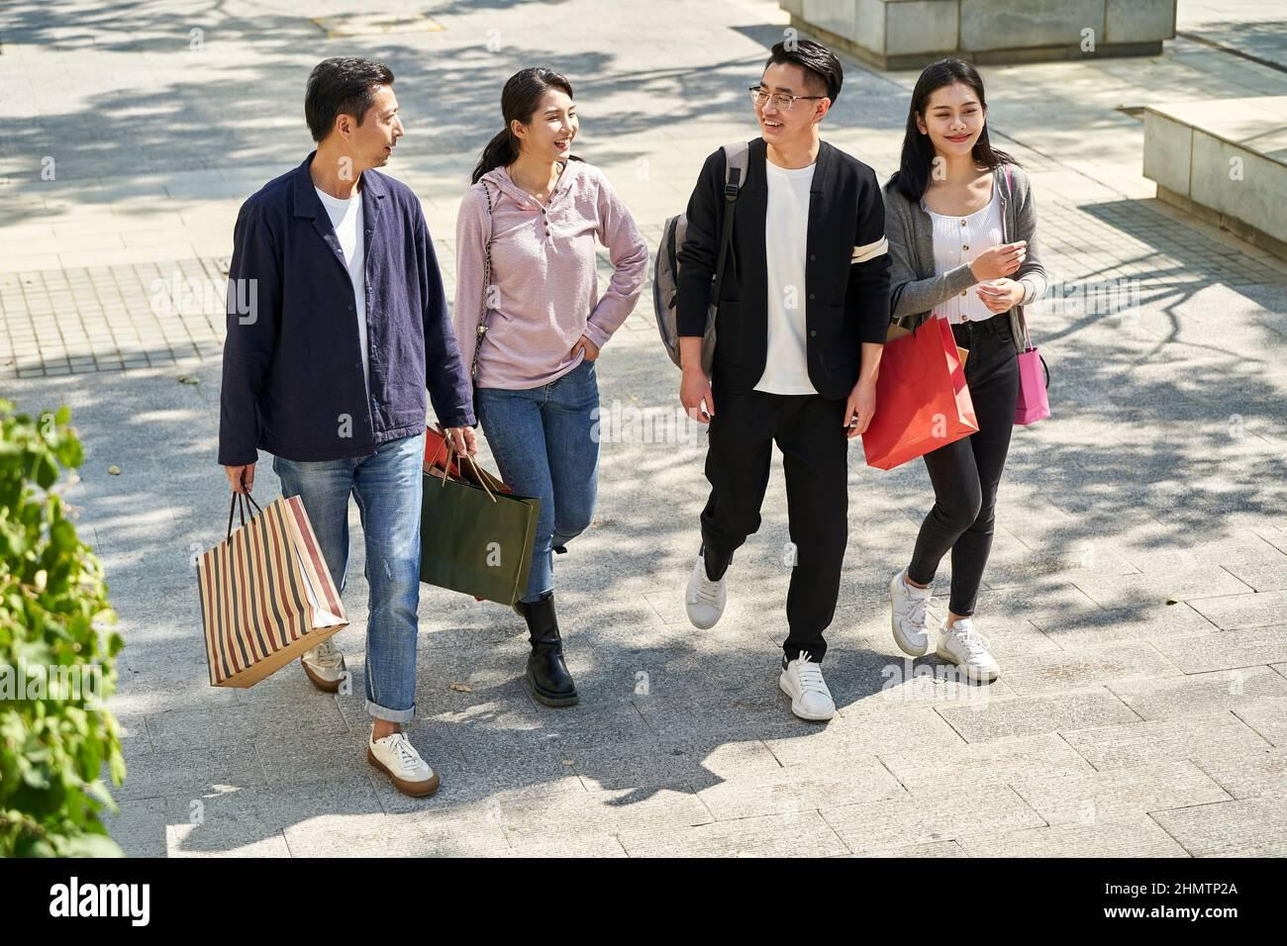jacket: (672, 131, 890, 404)
long sleeve shirt: (214, 150, 480, 465), (448, 160, 651, 390), (884, 161, 1047, 352)
short sleeve shirt: (753, 161, 823, 398)
trousers: (694, 380, 853, 666), (271, 431, 427, 709), (899, 312, 1022, 616), (474, 361, 605, 602)
vest: (914, 180, 1002, 327)
